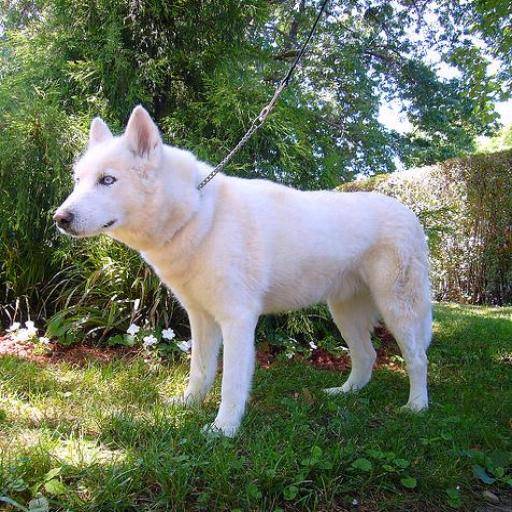dog_face: (55, 116, 158, 242)
